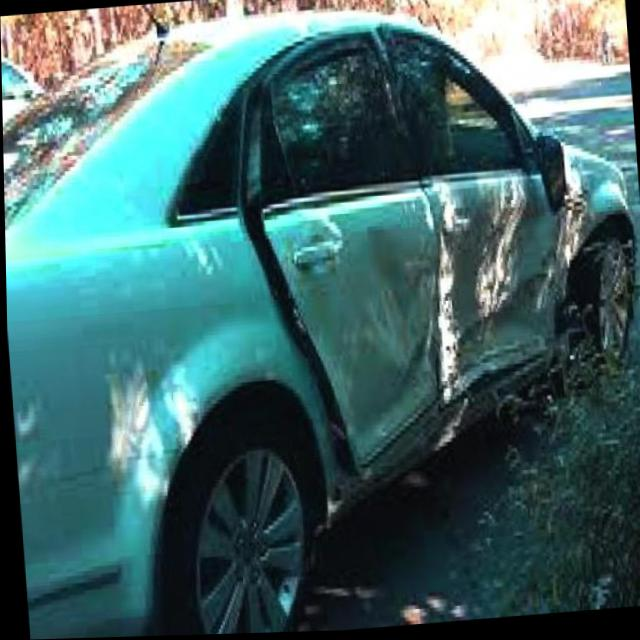Car-Damage: (269, 6, 594, 456)
